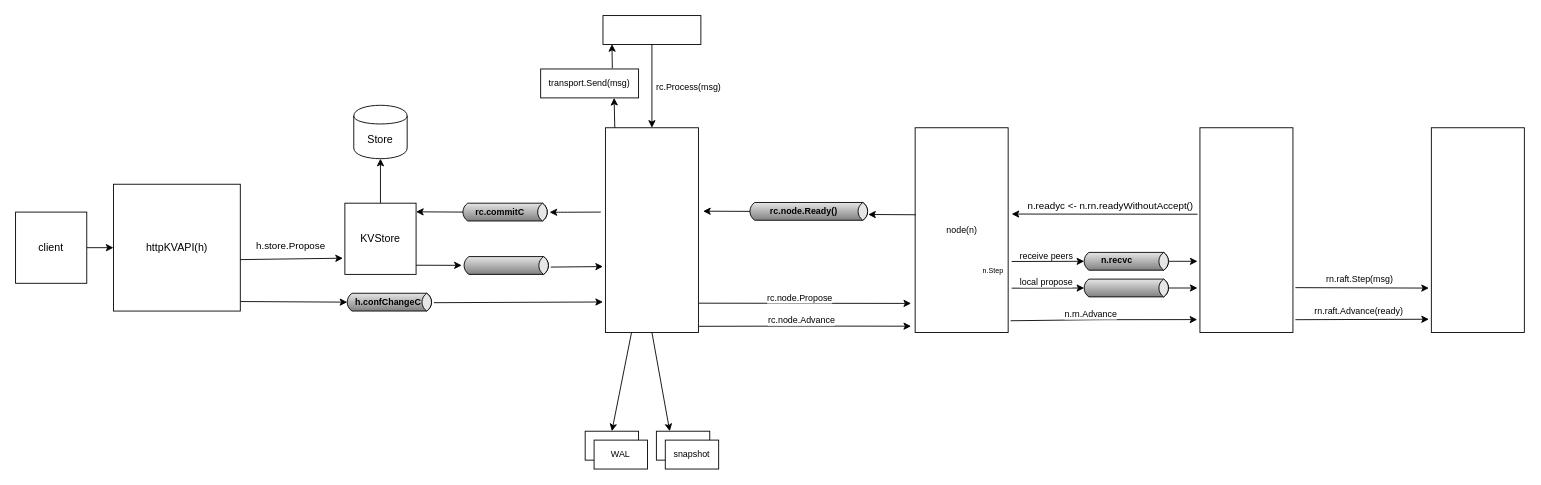
The diagram is 1541 pixels wide and 485 high, and some of its shapes have lost their labels. The shapes that lost their labels are listed below. From the top down, each one's centre as x and y in pixels, then its label:
At [651,29]: "peers".
At [651,230]: "raftNode(rc)".
At [1246,230]: "rawNode(rn)".
At [1477,230]: "raft".
At [506,265]: "rc.proposeC".
At [1126,287]: "n.propc".
